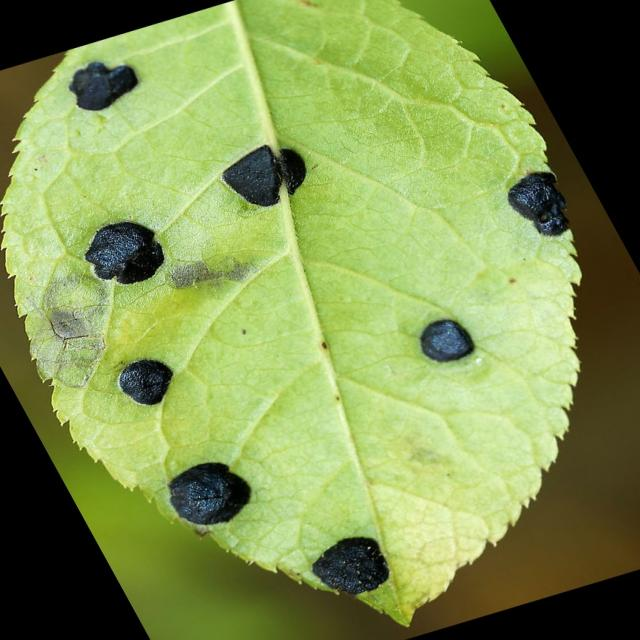Tar_Spot: (1, 0, 585, 630)
